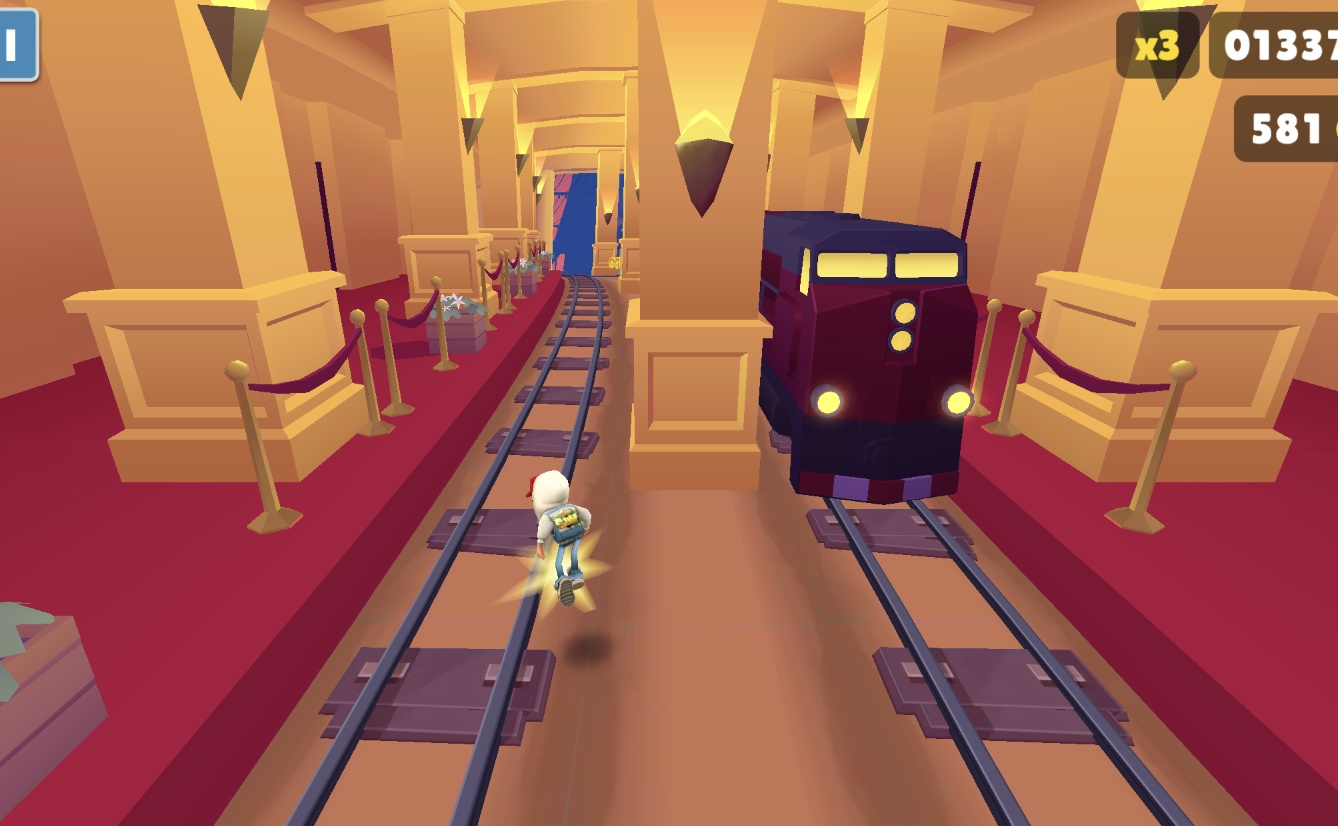pillar: (624, 0, 759, 494)
train: (754, 212, 974, 517)
